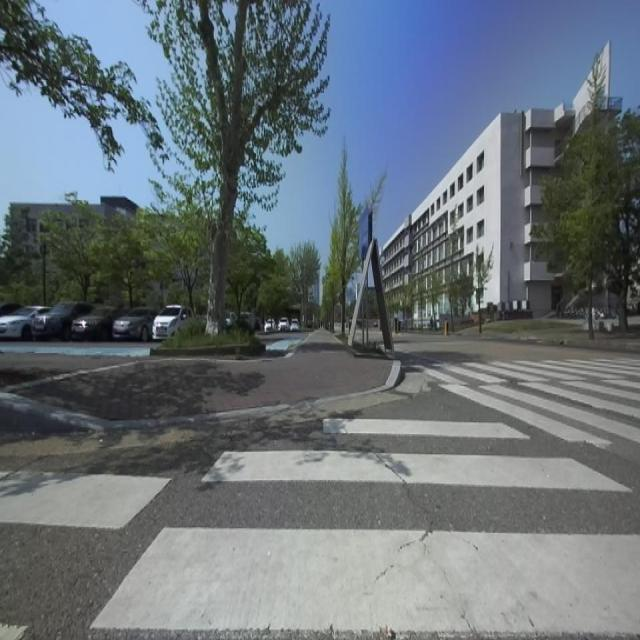sidewalk: (20, 331, 392, 420), (0, 353, 129, 388)
